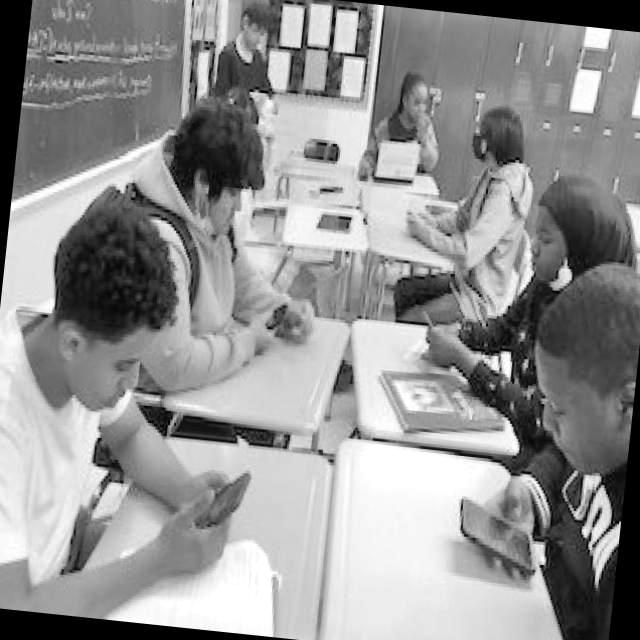phone: (452, 492, 542, 576), (190, 465, 252, 533), (416, 306, 450, 354), (262, 300, 287, 330)
